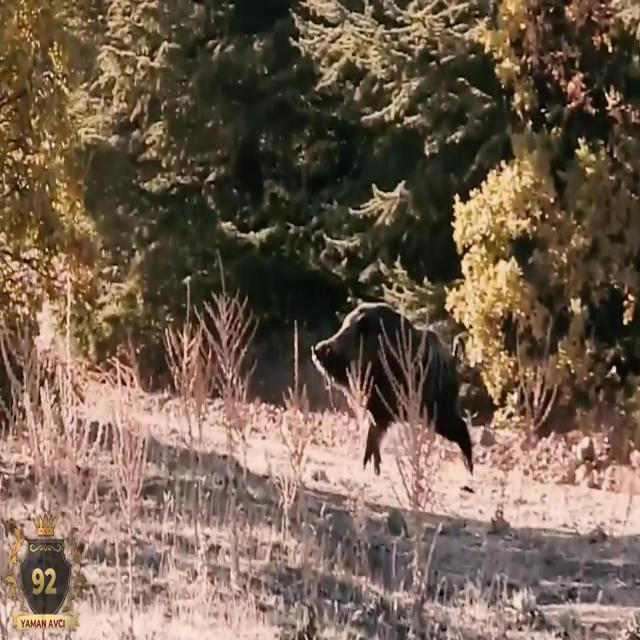pig: (316, 284, 485, 452)
